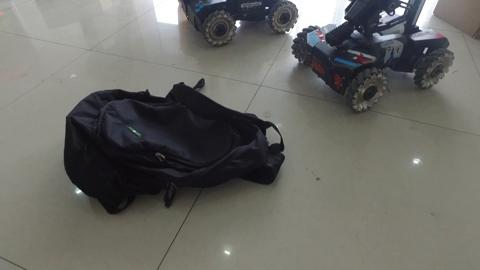bag: (65, 84, 286, 207)
chariot: (296, 1, 455, 112), (178, 1, 300, 44)
